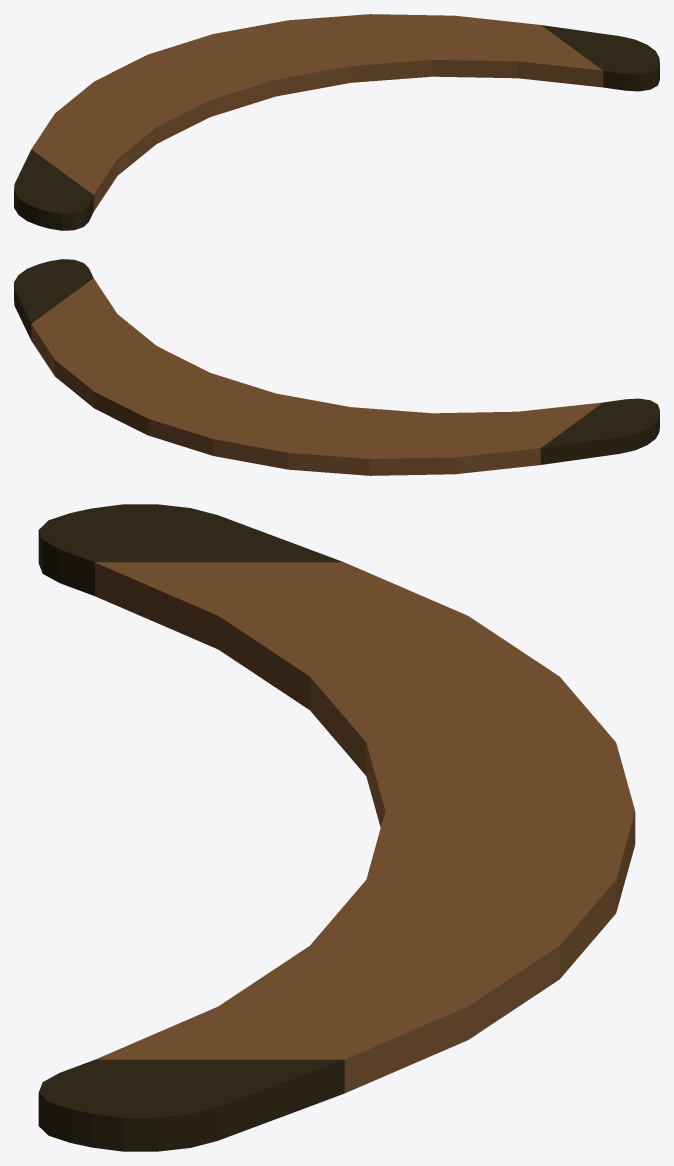
File: Prop_ThrowingStick.fbx
3 renders of one model, top to bottom at view 1: azimuth 30°, elevation 25°; view 2: azimuth 150°, elevation 25°; view 3: azimuth 270°, elevation 25°, orthographic. The views are drawn at different scales.
Visible parts, largest first — view 1: Prop_ThrowingStick; view 2: Prop_ThrowingStick; view 3: Prop_ThrowingStick.
Part boxes in pixels (x1,y1,x2,y2): Prop_ThrowingStick: (14,14,659,230); Prop_ThrowingStick: (14,259,659,475); Prop_ThrowingStick: (38,504,635,1151).
Size of the model in its own units: 51.7 by 1.33 by 21.24.
